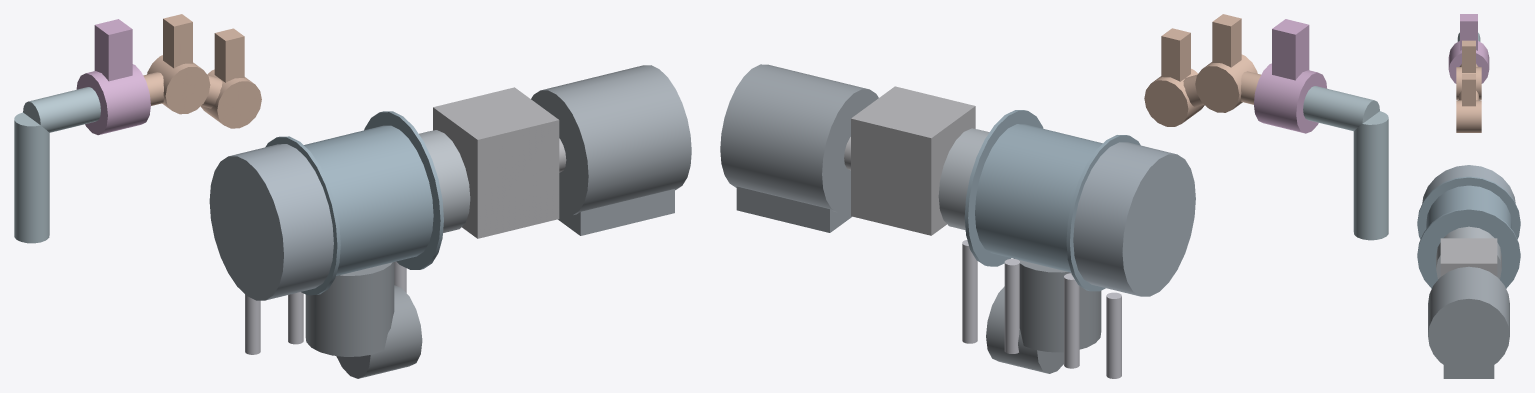
Rendered from turbine_rig_prototype.glb.
The picture shows the model from 3 angles, left to right: view 1: azimuth 30°, elevation 25°; view 2: azimuth 150°, elevation 25°; view 3: azimuth 270°, elevation 25°; orthographic projection. The views are drawn at different scales.
Parts seen in each view (by area): view 1: Dyno.001, Turbine.001, Turbine.002, Gearbox.001, Exhaust.001, SteamAdmission.001, SteamAdmission.002, SteamAdmission.003, SteamAdmission.004, Turbine.003, Leakage.001, Leakage.002; view 2: Dyno.001, Turbine.001, Turbine.002, Gearbox.001, Exhaust.001, SteamAdmission.001, SteamAdmission.002, SteamAdmission.003, SteamAdmission.004, Turbine.003, Leakage.004, Leakage.003 (+2 smaller); view 3: Dyno.001, Turbine.001, Gearbox.001, SteamAdmission.002, SteamAdmission.004, Turbine.002, SteamAdmission.003, Turbine.003.
Part boxes in pixels (x1=…): Dyno.001: x1=531, y1=65, x2=691, y2=235; Turbine.001: x1=265, y1=111, x2=443, y2=295; Turbine.002: x1=209, y1=144, x2=333, y2=300; Gearbox.001: x1=433, y1=87, x2=566, y2=238; Exhaust.001: x1=305, y1=262, x2=422, y2=378; SteamAdmission.001: x1=14, y1=87, x2=100, y2=243; SteamAdmission.002: x1=76, y1=19, x2=150, y2=135; SteamAdmission.003: x1=143, y1=14, x2=210, y2=114; SteamAdmission.004: x1=200, y1=28, x2=261, y2=128; Turbine.003: x1=419, y1=130, x2=470, y2=232; Leakage.001: x1=245, y1=294, x2=260, y2=354; Leakage.002: x1=288, y1=292, x2=303, y2=344; Dyno.001: x1=720, y1=64, x2=878, y2=232; Turbine.001: x1=964, y1=110, x2=1140, y2=291; Turbine.002: x1=1073, y1=142, x2=1195, y2=296; Gearbox.001: x1=844, y1=86, x2=975, y2=235; Exhaust.001: x1=986, y1=258, x2=1101, y2=373; SteamAdmission.001: x1=1303, y1=86, x2=1388, y2=240; SteamAdmission.002: x1=1254, y1=19, x2=1326, y2=133; SteamAdmission.003: x1=1195, y1=14, x2=1260, y2=112; SteamAdmission.004: x1=1144, y1=28, x2=1204, y2=126; Turbine.003: x1=938, y1=128, x2=989, y2=230; Leakage.004: x1=962, y1=240, x2=977, y2=343; Leakage.003: x1=1004, y1=259, x2=1019, y2=353; Dyno.001: x1=1428, y1=266, x2=1509, y2=378; Turbine.001: x1=1417, y1=176, x2=1520, y2=288; Gearbox.001: x1=1440, y1=238, x2=1497, y2=276; SteamAdmission.002: x1=1448, y1=14, x2=1489, y2=83; SteamAdmission.004: x1=1456, y1=73, x2=1481, y2=132; Turbine.002: x1=1422, y1=165, x2=1515, y2=203; SteamAdmission.003: x1=1456, y1=40, x2=1481, y2=99; Turbine.003: x1=1436, y1=226, x2=1501, y2=278.
Size of the model in its own units: 7.48 by 4.52 by 1.64.
